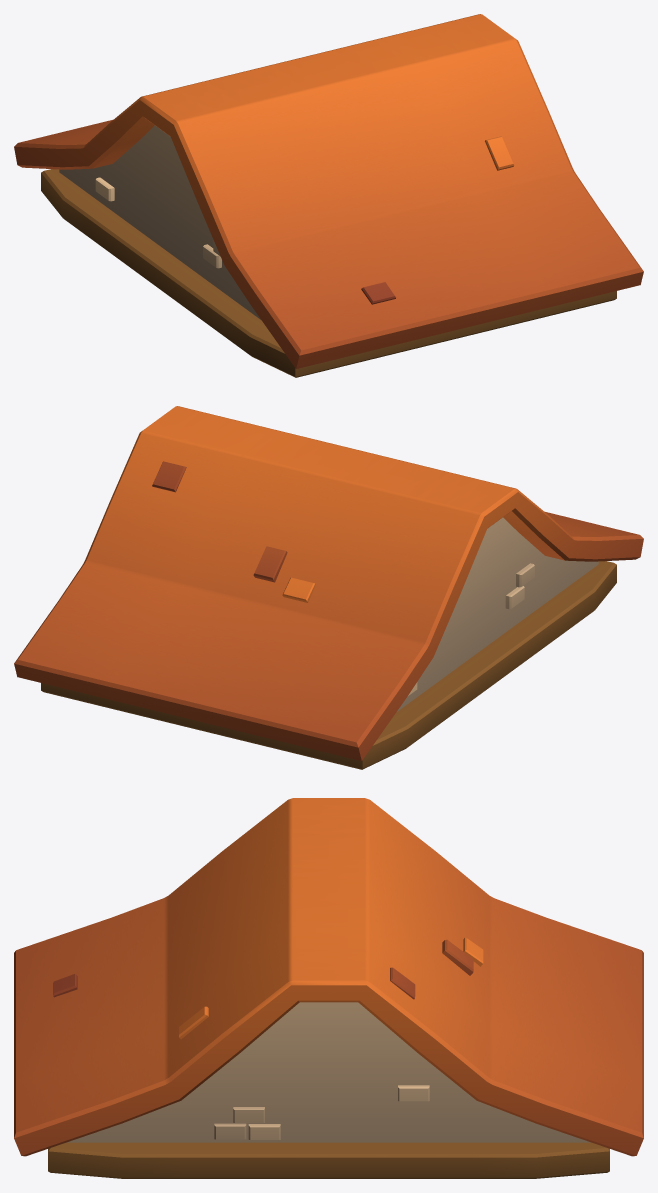
The model's file is House_Roof.fbx.
The picture shows the model from 3 angles, top to bottom: view 1: azimuth 30°, elevation 25°; view 2: azimuth 150°, elevation 25°; view 3: azimuth 270°, elevation 25°; orthographic projection. The views are drawn at different scales.
Parts seen in each view (by area): view 1: pCube48; view 2: pCube48; view 3: pCube48.
Boxes of the visible parts, box(x1,y1,x2,y2) form: pCube48: box(14, 14, 643, 377); pCube48: box(14, 406, 643, 769); pCube48: box(14, 798, 643, 1178).
Bounding box in the file's own units: 5.78 × 2.87 × 8.29.
1 material, 1 textured.
